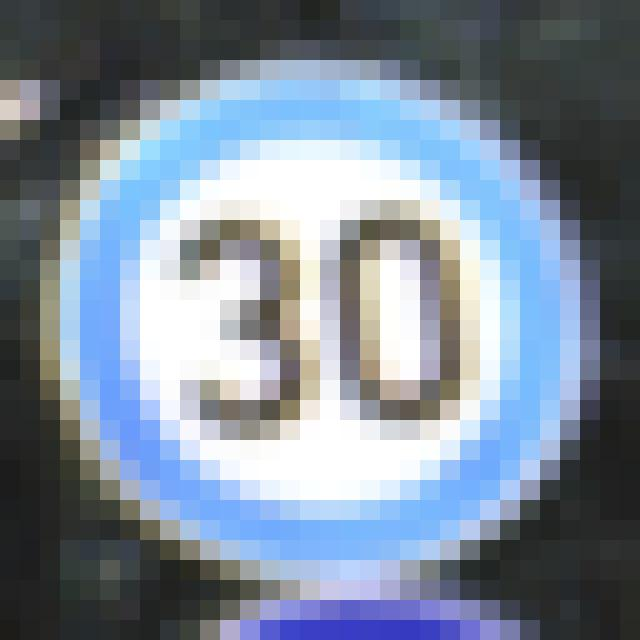SPEED LIMIT 30: (156, 158, 522, 518)
